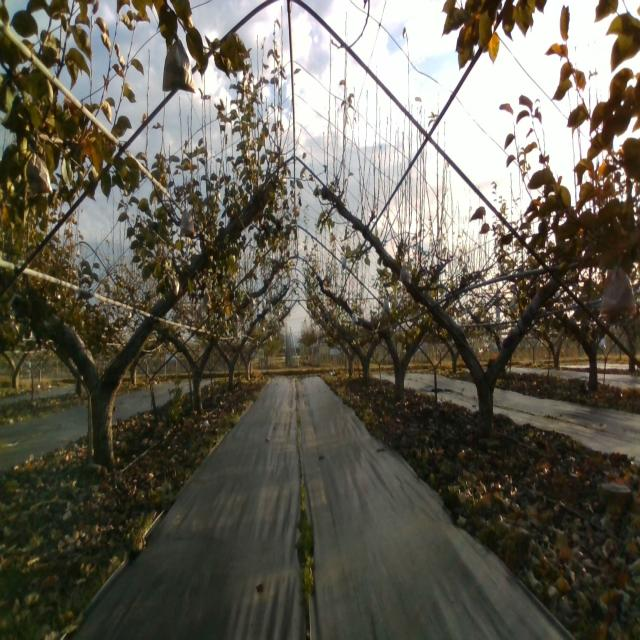pearbags: (162, 32, 195, 92), (599, 264, 637, 316), (27, 154, 53, 195), (179, 206, 195, 237), (399, 260, 412, 285)
